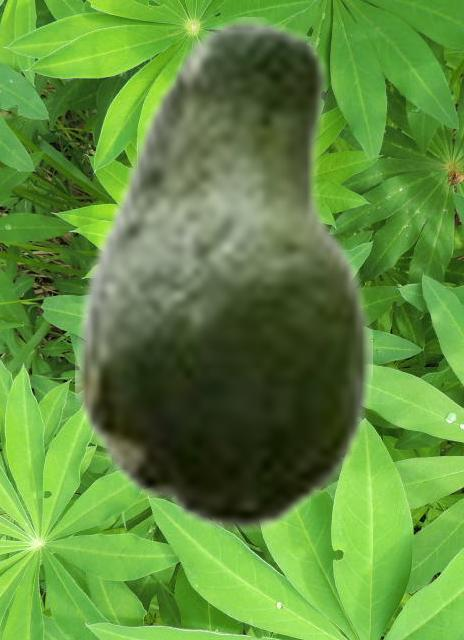sayote: (75, 17, 371, 533)
